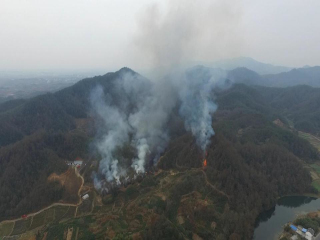smoke: (82, 3, 228, 194)
